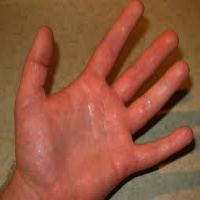ring: (126, 54, 184, 139)
